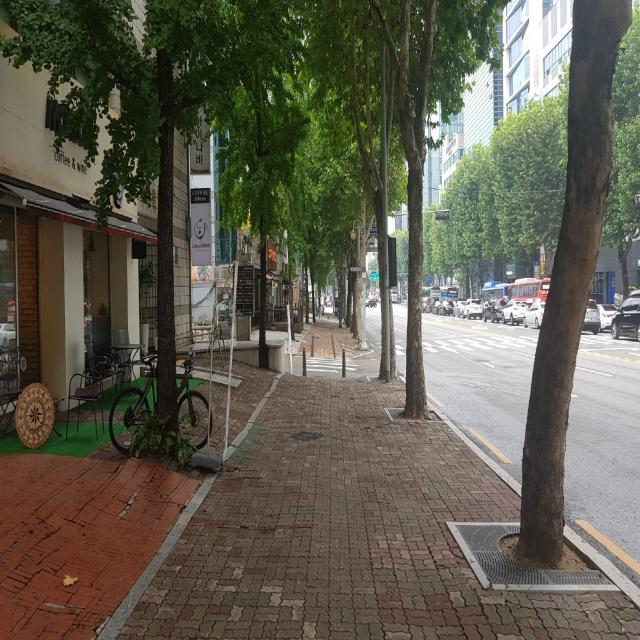횡단보도: (378, 332, 633, 358), (301, 358, 359, 373)
